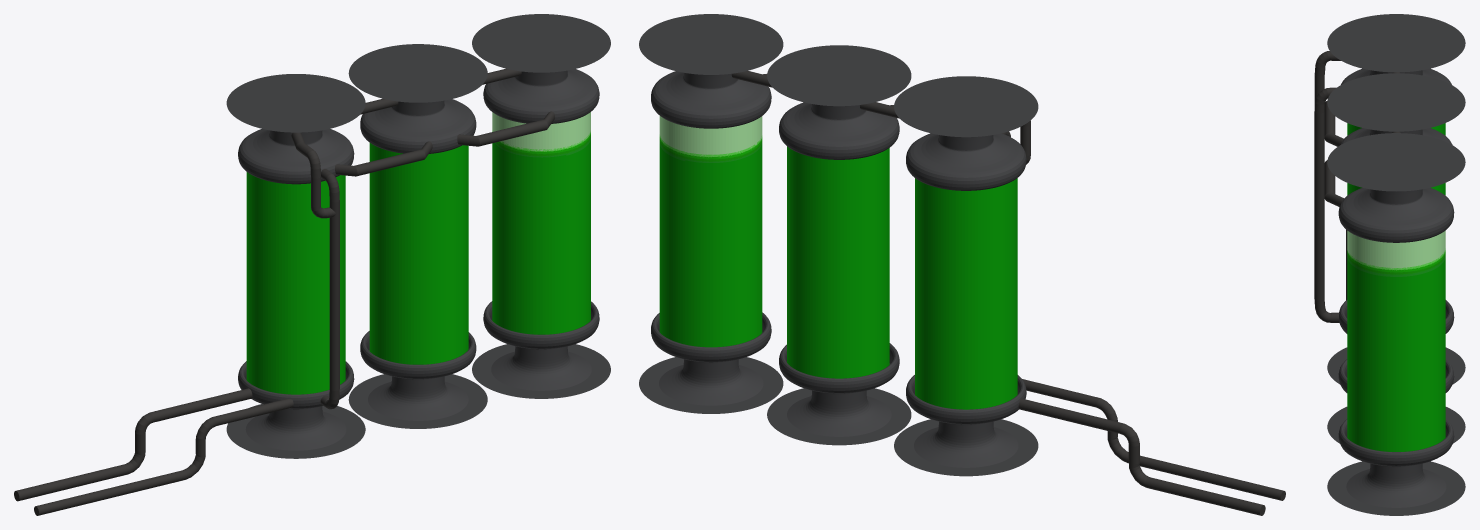
Rendered from Tank.fbx.
3 views of the same model, side by side, from view 1: azimuth 30°, elevation 25°; view 2: azimuth 150°, elevation 25°; view 3: azimuth 270°, elevation 25° (orthographic). The views are drawn at different scales.
Visible parts, largest first — view 1: Tankholder.002, Glass.008, Glass, Glass.001, Cylinder.005, Glass.006; view 2: Tankholder.002, Glass, Glass.008, Glass.001, Cylinder.005, Glass.006; view 3: Tankholder.002, Glass.001, Cylinder.005, Glass.006, Glass.002, Glass.004, Glass.003, Glass.005, Glass.008, Glass.
Boxes of the visible parts, bbox=[...] form: Tankholder.002: bbox=[226, 14, 610, 458]; Glass.008: bbox=[369, 143, 468, 364]; Glass: bbox=[246, 172, 345, 394]; Glass.001: bbox=[492, 139, 590, 334]; Cylinder.005: bbox=[14, 68, 554, 515]; Glass.006: bbox=[492, 112, 590, 150]; Tankholder.002: bbox=[639, 14, 1038, 476]; Glass: bbox=[915, 178, 1017, 409]; Glass.008: bbox=[787, 146, 889, 378]; Glass.001: bbox=[659, 144, 762, 347]; Cylinder.005: bbox=[731, 71, 1285, 515]; Glass.006: bbox=[659, 116, 762, 155]; Tankholder.002: bbox=[1327, 14, 1465, 515]; Glass.001: bbox=[1347, 257, 1445, 451]; Cylinder.005: bbox=[1314, 51, 1400, 322]; Glass.006: bbox=[1347, 230, 1445, 269]; Glass.002: bbox=[1347, 255, 1445, 276]; Glass.004: bbox=[1347, 251, 1445, 272]; Glass.003: bbox=[1347, 253, 1445, 274]; Glass.005: bbox=[1347, 248, 1445, 270]; Glass.008: bbox=[1347, 183, 1445, 195]; Glass: bbox=[1347, 123, 1445, 135].
Size of the model in its own units: 2913 by 1547 by 652.
